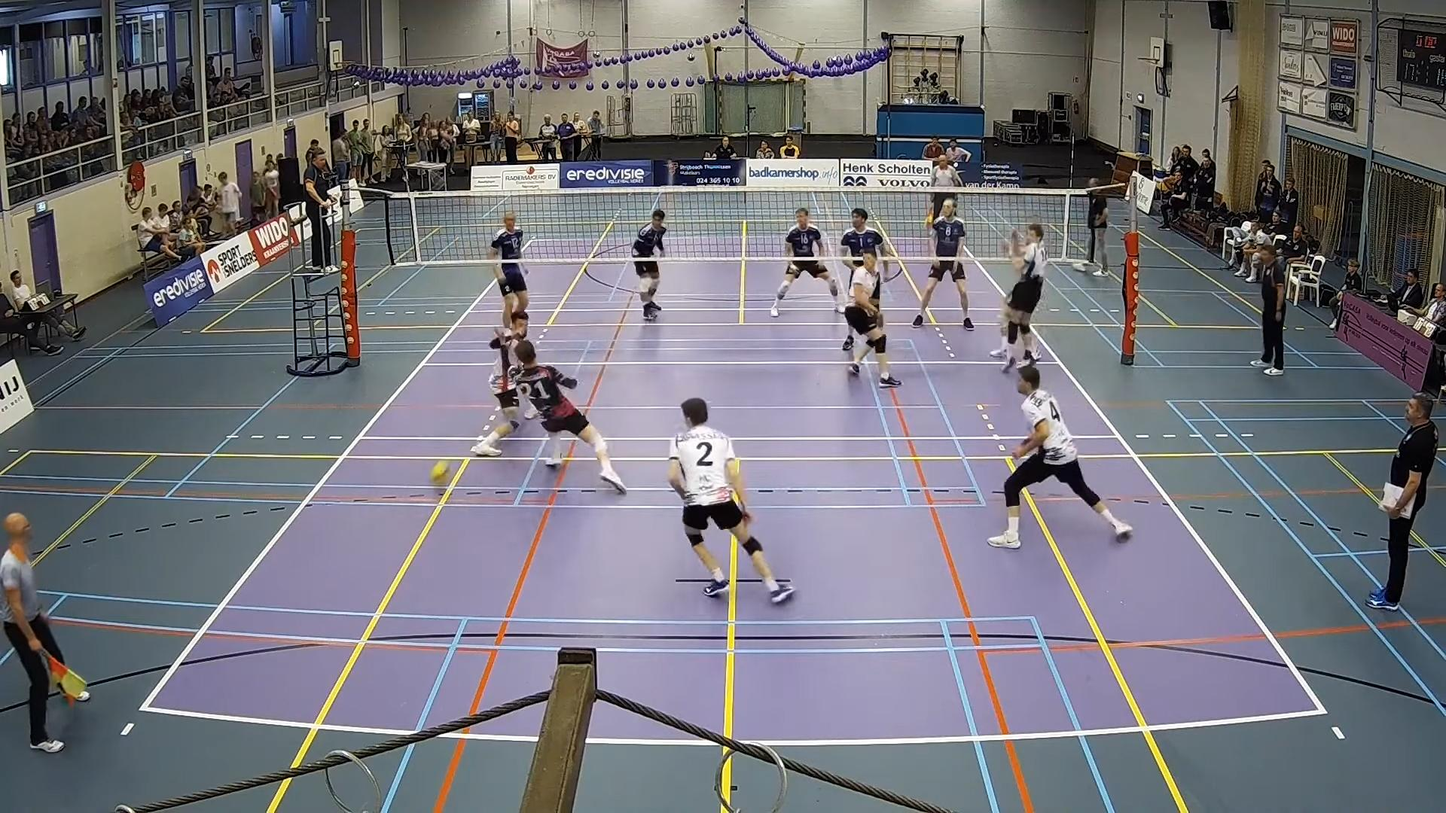Dig: (507, 344, 632, 500)
Player: (988, 366, 1132, 547), (668, 398, 792, 603), (990, 224, 1048, 372), (471, 311, 528, 456), (912, 199, 974, 330), (770, 208, 843, 317), (844, 250, 900, 388), (489, 212, 528, 326), (632, 209, 667, 320), (840, 208, 883, 273)
ball: (430, 460, 449, 483)
